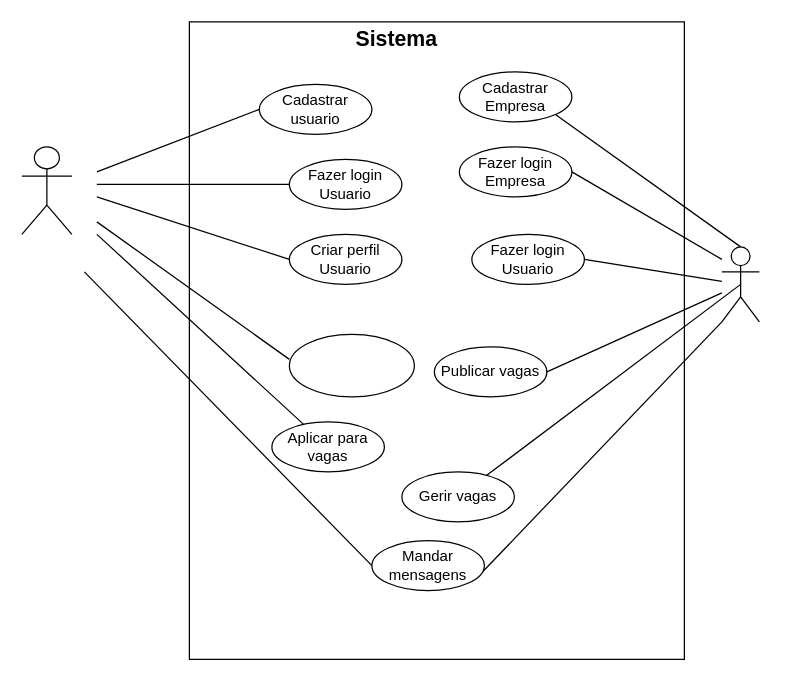
This 793x681 diagram has some shape labels left out. Here are the shapes that lost their labels. From the top down, the centre of each, then its label:
the point at 46,190: Usuário
the point at 740,284: Empresa
the point at 351,365: Anexar arquivos pdf ao perfil
